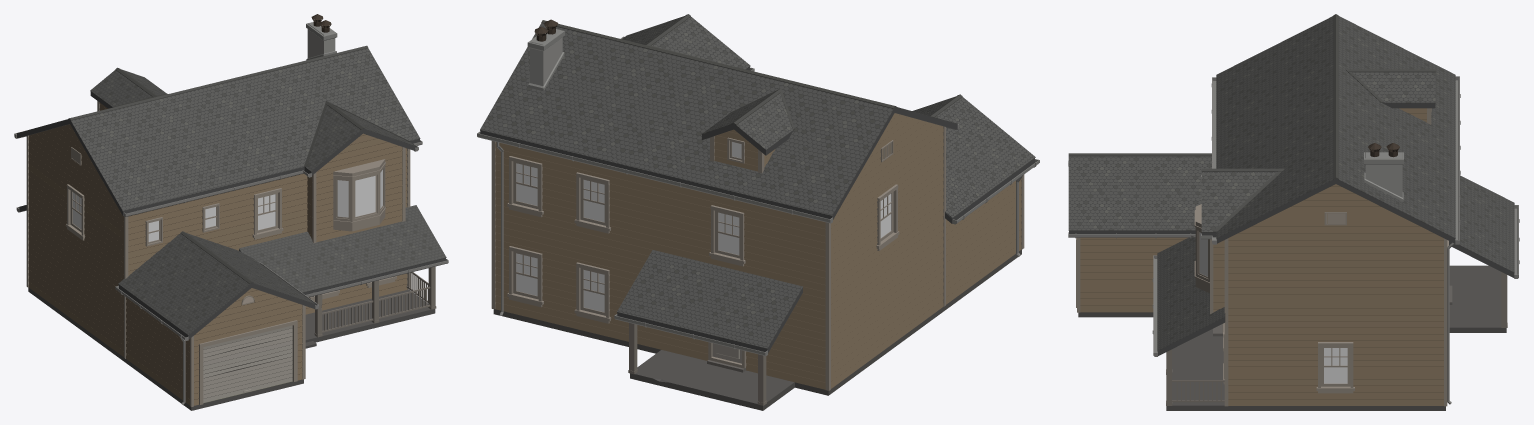
Rendered from SM_Bldg_Suburb_House_08.fbx.
3 views of the same model, side by side, from view 1: azimuth 30°, elevation 25°; view 2: azimuth 150°, elevation 25°; view 3: azimuth 270°, elevation 25° (orthographic). The views are drawn at different scales.
Parts seen in each view (by area): view 1: SM_Bldg_Suburb_House_08, SM_Bldg_Suburb_House_08_Glass; view 2: SM_Bldg_Suburb_House_08, SM_Bldg_Suburb_House_08_Glass; view 3: SM_Bldg_Suburb_House_08, SM_Bldg_Suburb_House_08_Glass.
Part boxes in pixels (left/top/right/bottom): SM_Bldg_Suburb_House_08: left=14, top=14, right=448, bottom=410; SM_Bldg_Suburb_House_08_Glass: left=72, top=170, right=382, bottom=241; SM_Bldg_Suburb_House_08: left=477, top=14, right=1039, bottom=410; SM_Bldg_Suburb_House_08_Glass: left=516, top=142, right=891, bottom=312; SM_Bldg_Suburb_House_08: left=1068, top=14, right=1519, bottom=410; SM_Bldg_Suburb_House_08_Glass: left=1199, top=232, right=1347, bottom=383.
Bounding box in the file's own units: 1328 × 966 × 1527.
